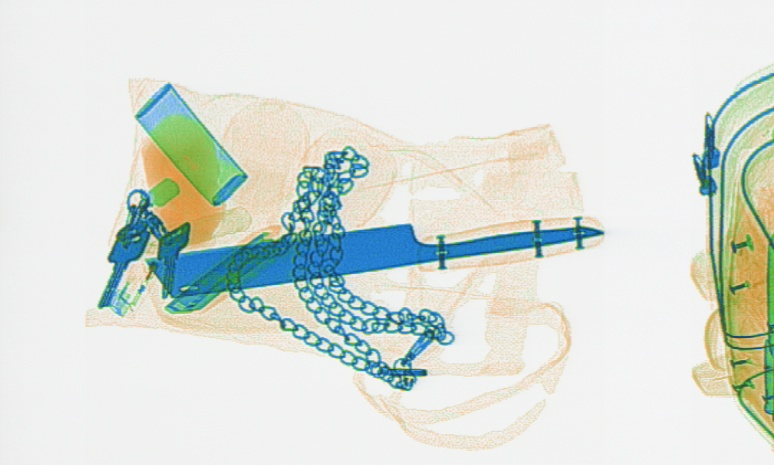knife: (143, 214, 605, 299), (163, 224, 284, 315)
lighter: (106, 221, 174, 322)
